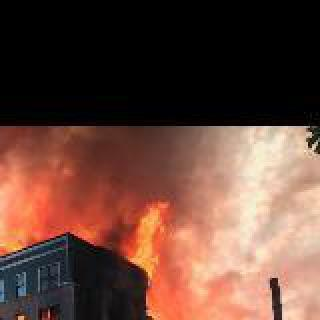fire: (51, 126, 210, 225), (80, 212, 130, 320), (132, 192, 174, 278), (10, 306, 58, 320)
